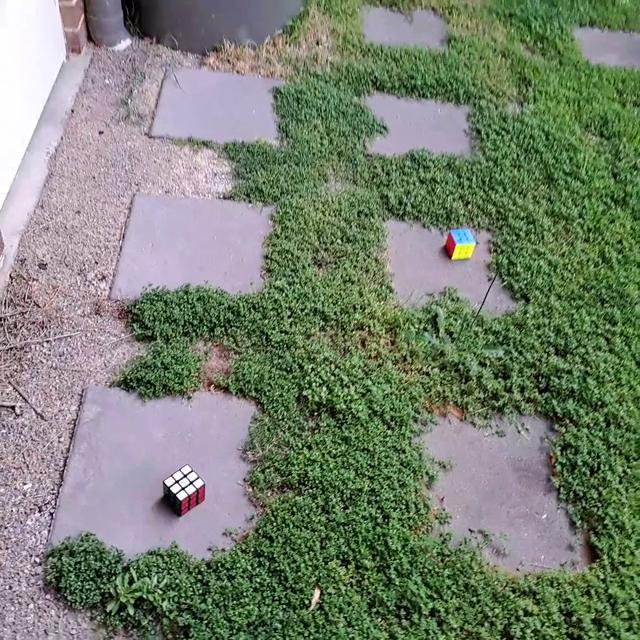rubix_cube: (160, 463, 207, 517), (443, 228, 478, 261)
